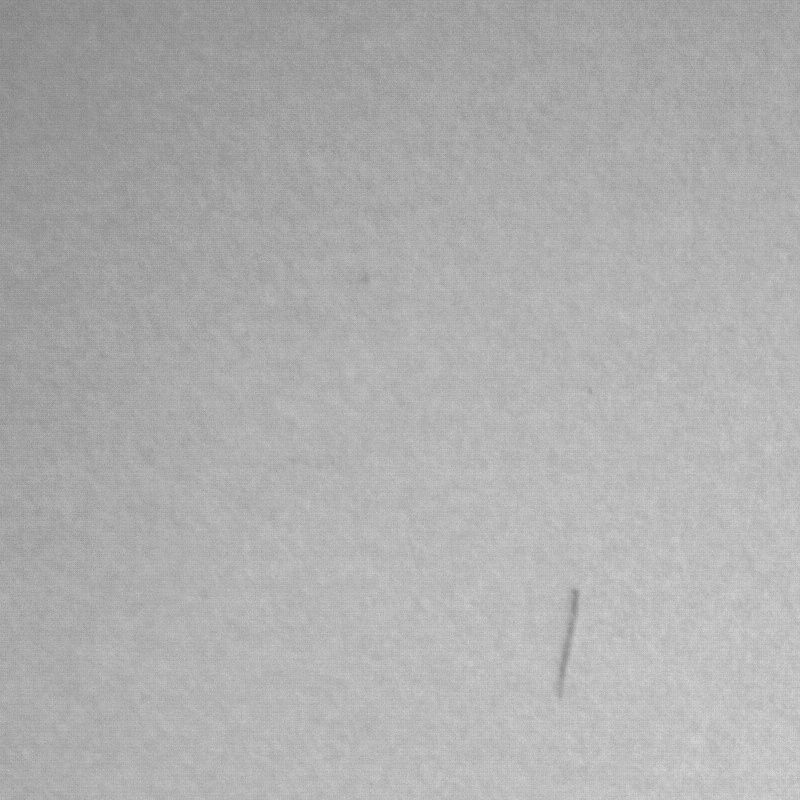defect: (555, 585, 587, 700)
